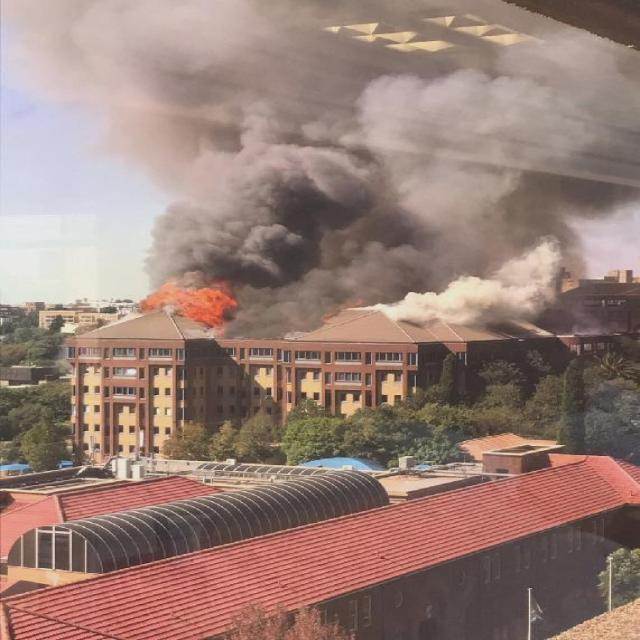Fire: (128, 277, 246, 339)
Smoke: (26, 8, 640, 274)
